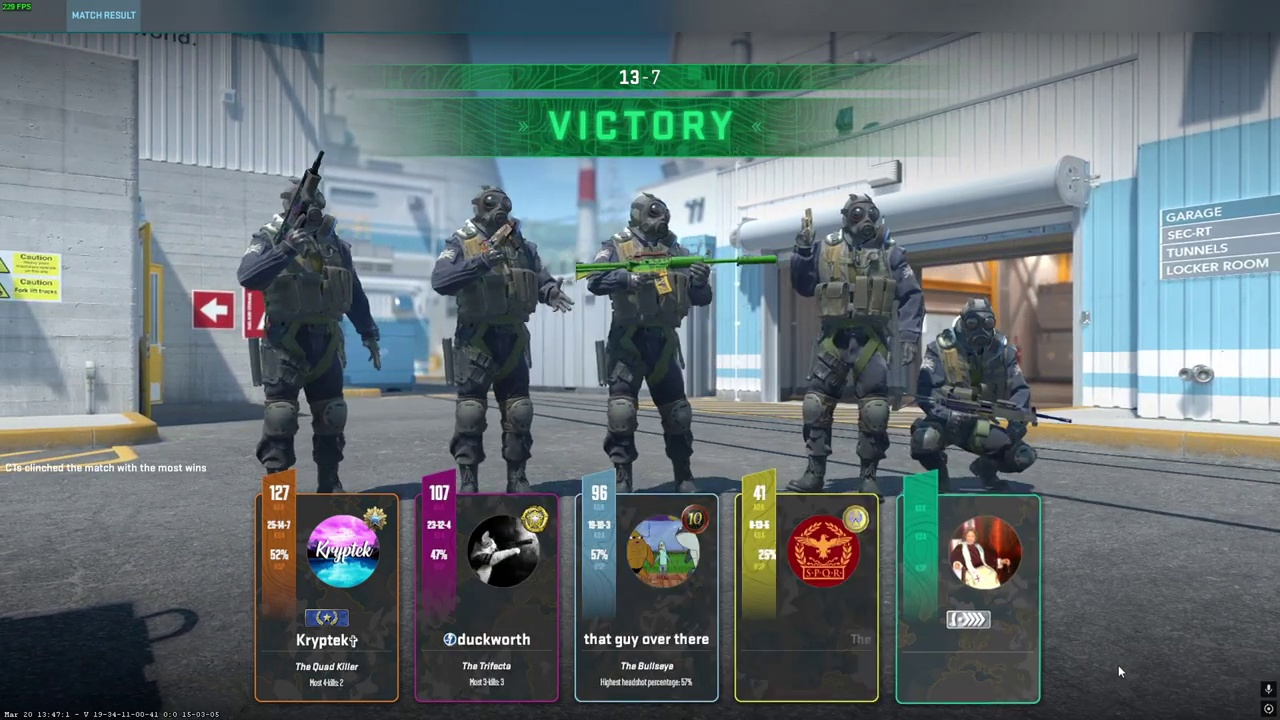CT: (786, 193, 916, 494), (246, 177, 362, 496), (591, 193, 708, 493), (437, 185, 550, 493), (916, 297, 1031, 492)
